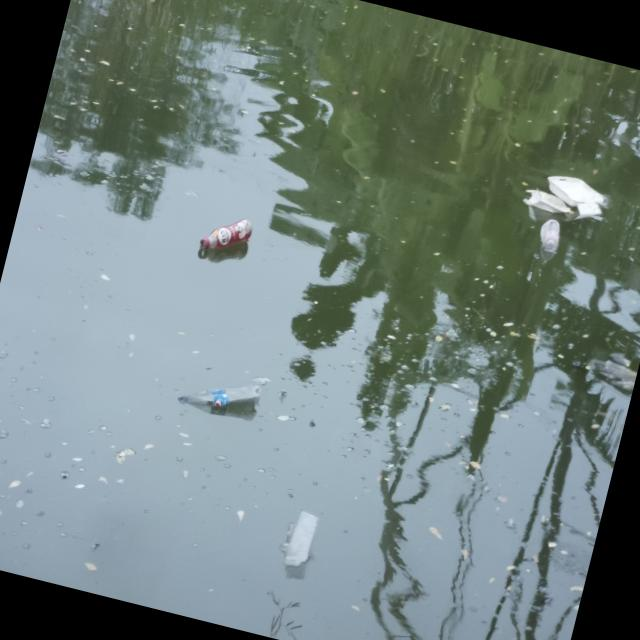foam: (521, 166, 611, 225)
plastic: (178, 367, 264, 422), (197, 207, 256, 260), (535, 216, 564, 254)
plastic bottle: (273, 503, 328, 579)
